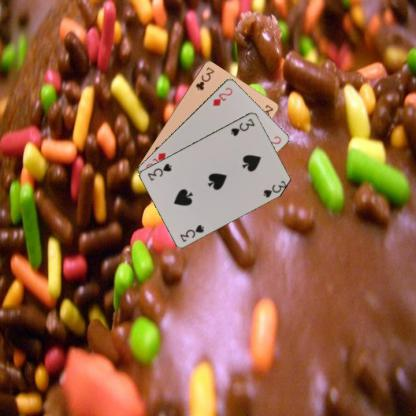2d: (210, 85, 233, 107)
3c: (193, 65, 215, 91)
3s: (228, 115, 256, 137), (177, 222, 205, 243)
